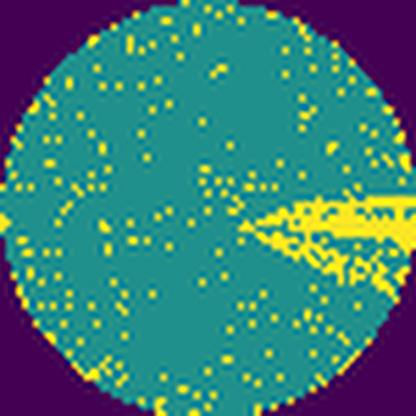Loc: (236, 193, 416, 286)
